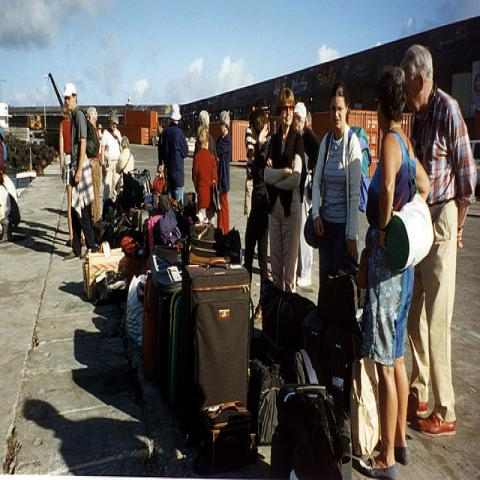car: (469, 140, 479, 198)
